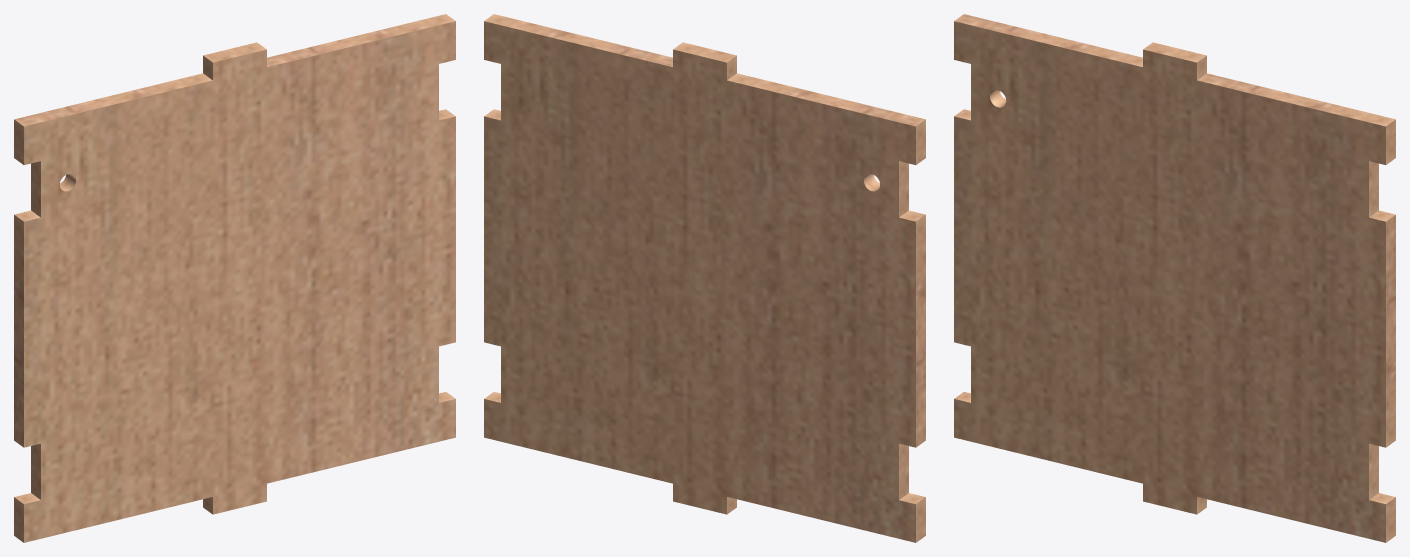
File: Left Panel.obj
The picture shows the model from 3 angles, left to right: view 1: azimuth 30°, elevation 25°; view 2: azimuth 150°, elevation 25°; view 3: azimuth 330°, elevation 25°; orthographic projection.
Visible parts, largest first — view 1: Solid1; view 2: Solid1; view 3: Solid1.
Part boxes in pixels (left/top/right/bottom): Solid1: left=14, top=14, right=455, bottom=542; Solid1: left=484, top=14, right=925, bottom=542; Solid1: left=954, top=14, right=1395, bottom=542.
Size of the model in its own units: 102 by 102 by 4.
Materials: 1 (1 with a texture image).
